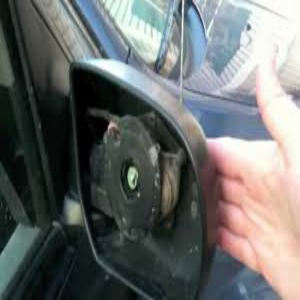side_mirror: (56, 50, 210, 300)
